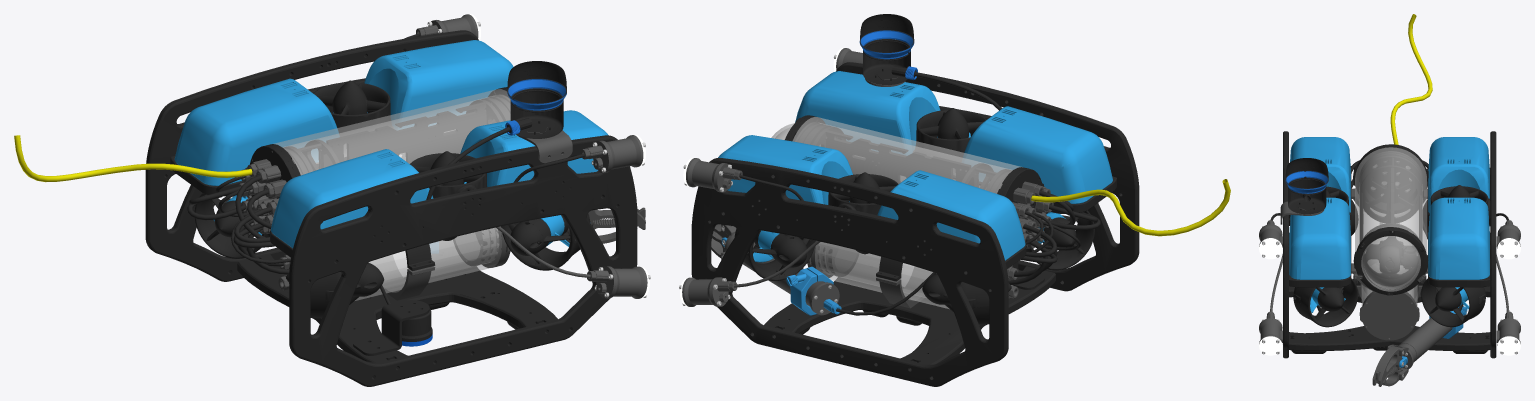
The model's file is VECTORED.glb.
The picture shows the model from 3 angles, left to right: view 1: azimuth 30°, elevation 25°; view 2: azimuth 150°, elevation 25°; view 3: azimuth 270°, elevation 25°; orthographic projection. The views are drawn at different scales.
Visible parts, largest first — view 1: BROV2-HEAVY-ASM-BROV2-HEAVY-R1.007, PING360, PING-ASM-R3-PUBLIC, motor6.standard, LUMEN-ASM-R3-PUBLIC.001, motor1, LUMEN-ASM-R3-PUBLIC.002, motor4, BezierCurve.012, motor3, motor5.standard.001, NEWTON_GRIPPER; view 2: BROV2-HEAVY-ASM-BROV2-HEAVY-R1.007, PING360, NEWTON_GRIPPER, motor5.standard.001, motor2, LUMEN-ASM-R3-PUBLIC.001, LUMEN-ASM-R3-PUBLIC.002, motor3, BezierCurve.012, motor4, motor6.standard, PING-ASM-R3-PUBLIC; view 3: BROV2-HEAVY-ASM-BROV2-HEAVY-R1.007, NEWTON_GRIPPER, PING360, motor1, motor2, LUMEN-ASM-R3-PUBLIC.002, LUMEN-ASM-R3-PUBLIC.001, BezierCurve.012, BROV2-HEAVY-ASM-BROV2-HEAVY-R1.001, motor6.standard, motor5.standard.001.
Boxes of the visible parts, box(x1,y1,x2,y2) form: BROV2-HEAVY-ASM-BROV2-HEAVY-R1.007: box(145, 30, 637, 386); PING360: box(426, 61, 572, 199); PING-ASM-R3-PUBLIC: box(231, 208, 432, 355); motor6.standard: box(313, 80, 391, 153); LUMEN-ASM-R3-PUBLIC.001: box(404, 14, 645, 182); motor1: box(501, 213, 590, 270); LUMEN-ASM-R3-PUBLIC.002: box(496, 226, 650, 298); motor4: box(194, 193, 269, 258); BezierCurve.012: box(14, 135, 252, 182); motor3: box(286, 262, 384, 318); motor5.standard.001: box(410, 151, 487, 240); NEWTON_GRIPPER: box(218, 186, 645, 253); BROV2-HEAVY-ASM-BROV2-HEAVY-R1.007: box(691, 62, 1139, 386); PING360: box(859, 14, 1002, 110); NEWTON_GRIPPER: box(711, 212, 1053, 315); motor5.standard.001: box(915, 108, 986, 174); motor2: box(734, 229, 815, 280); LUMEN-ASM-R3-PUBLIC.001: box(683, 47, 862, 200); LUMEN-ASM-R3-PUBLIC.002: box(679, 241, 820, 306); motor3: box(1026, 210, 1094, 270); BezierCurve.012: box(1031, 179, 1230, 236); motor4: box(922, 274, 1011, 324); motor6.standard: box(828, 172, 898, 254); PING-ASM-R3-PUBLIC: box(1011, 220, 1080, 289); BROV2-HEAVY-ASM-BROV2-HEAVY-R1.007: box(1283, 131, 1496, 358); NEWTON_GRIPPER: box(1372, 221, 1467, 386); PING360: box(1280, 158, 1328, 224); motor1: box(1293, 278, 1358, 327); motor2: box(1421, 278, 1485, 327); LUMEN-ASM-R3-PUBLIC.002: box(1259, 254, 1520, 355); LUMEN-ASM-R3-PUBLIC.001: box(1259, 213, 1520, 259); BezierCurve.012: box(1390, 14, 1432, 144); BROV2-HEAVY-ASM-BROV2-HEAVY-R1.001: box(1380, 245, 1416, 274); motor6.standard: box(1429, 185, 1490, 220); motor5.standard.001: box(1289, 186, 1350, 219).
Bounding box in the file's own units: 0.8001 × 0.3281 × 0.4133.
